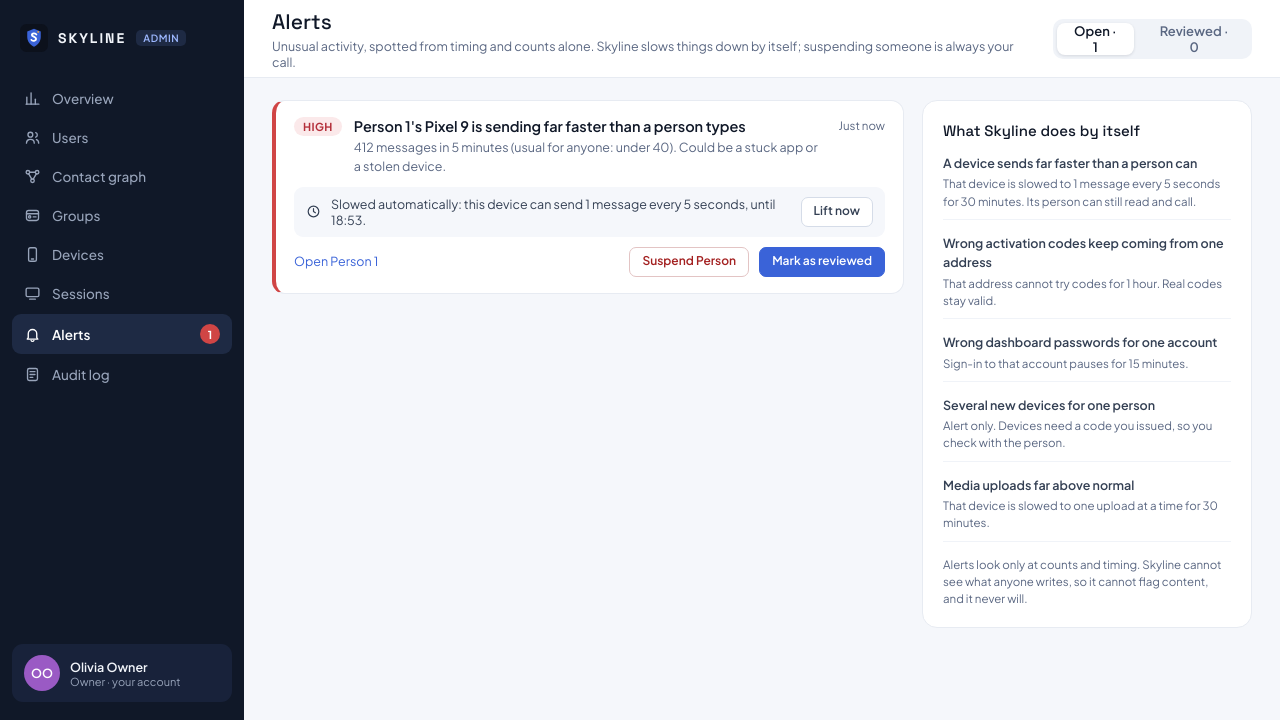
Test: alerts (board 37) › lifts a limit, and suspends only after asking
The image size is (1280, 720).
Expected: the text "Person 1's Pixel 9 is sending far faster than a person types" is shown, x1=354 y1=117 x2=746 y2=135
Expected: the text "412 messages in 5 minutes" is shown, x1=354 y1=139 x2=818 y2=174
Click the button "Lift now" at point(837, 212), box x1=800 y1=197 x2=873 y2=227
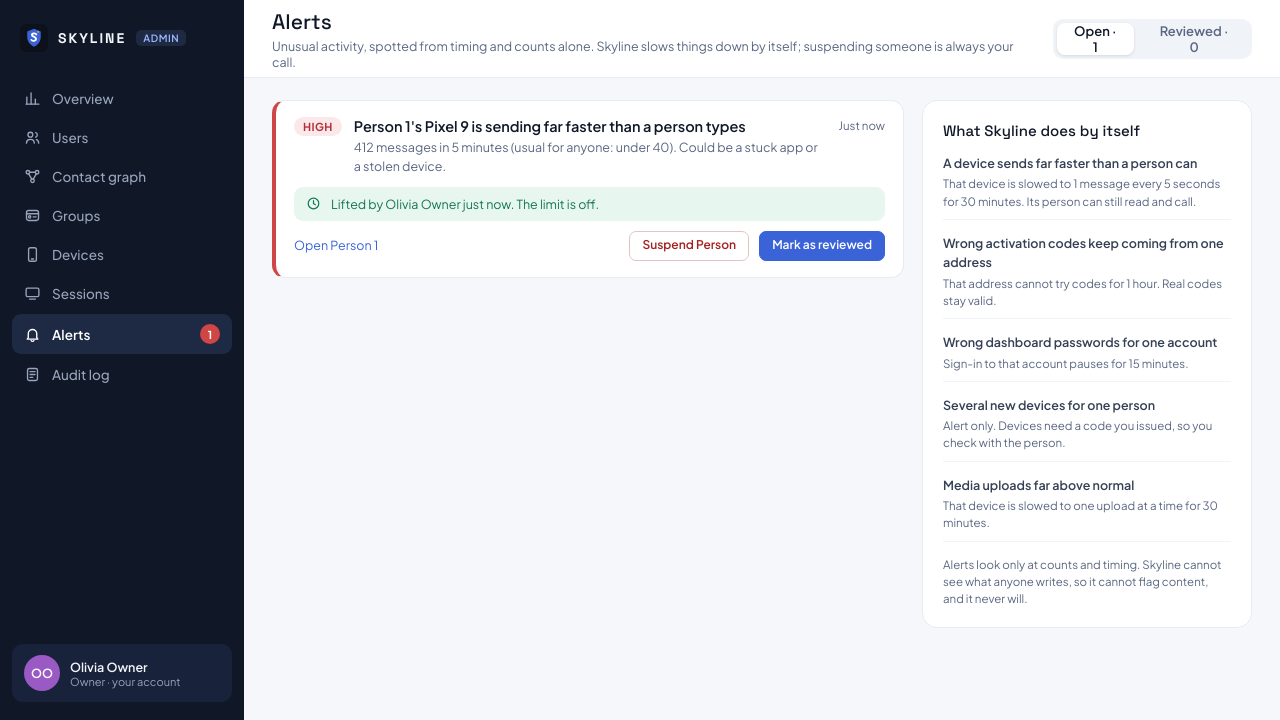
Now the text "Lifted by Olivia Owner just now. The limit is off." is shown, box x1=331 y1=196 x2=599 y2=212
Click the button "Suspend Person" at point(689, 246), box x1=629 y1=231 x2=749 y2=261
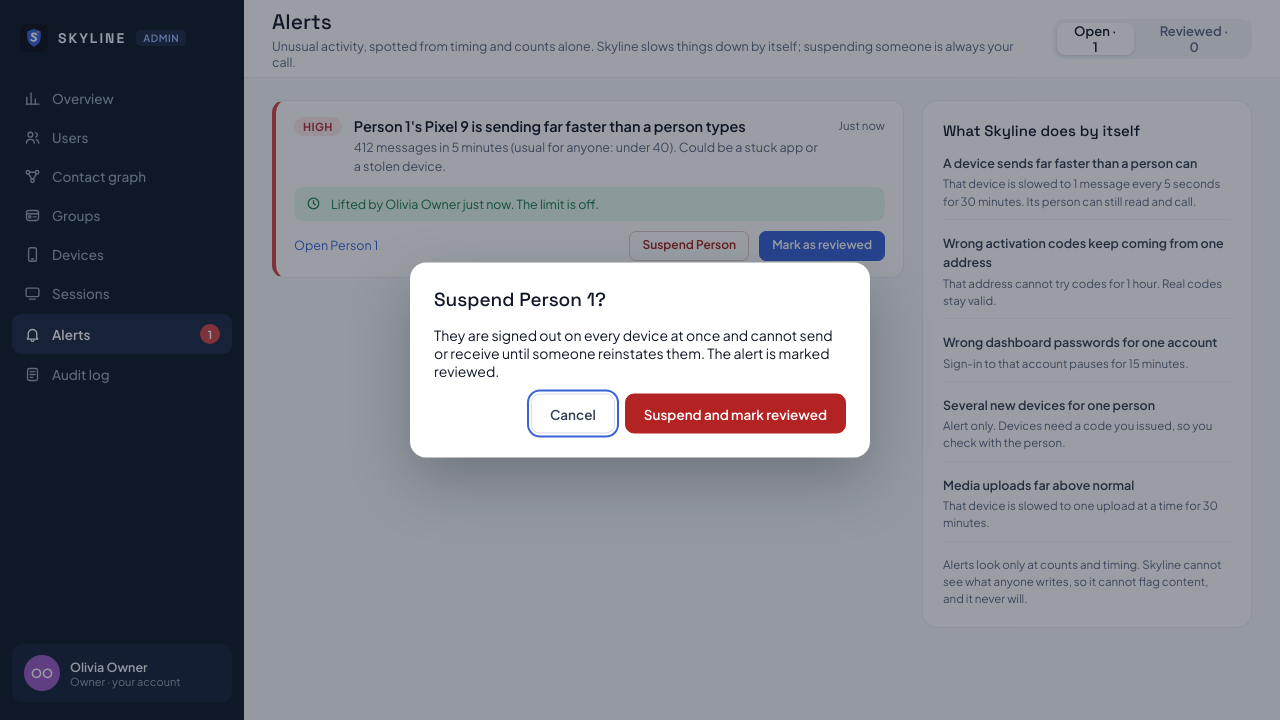
Now the dialog is shown, box x1=410 y1=262 x2=870 y2=458
Click the button "Suspend and mark reviewed" at point(735, 414), box x1=625 y1=394 x2=846 y2=434
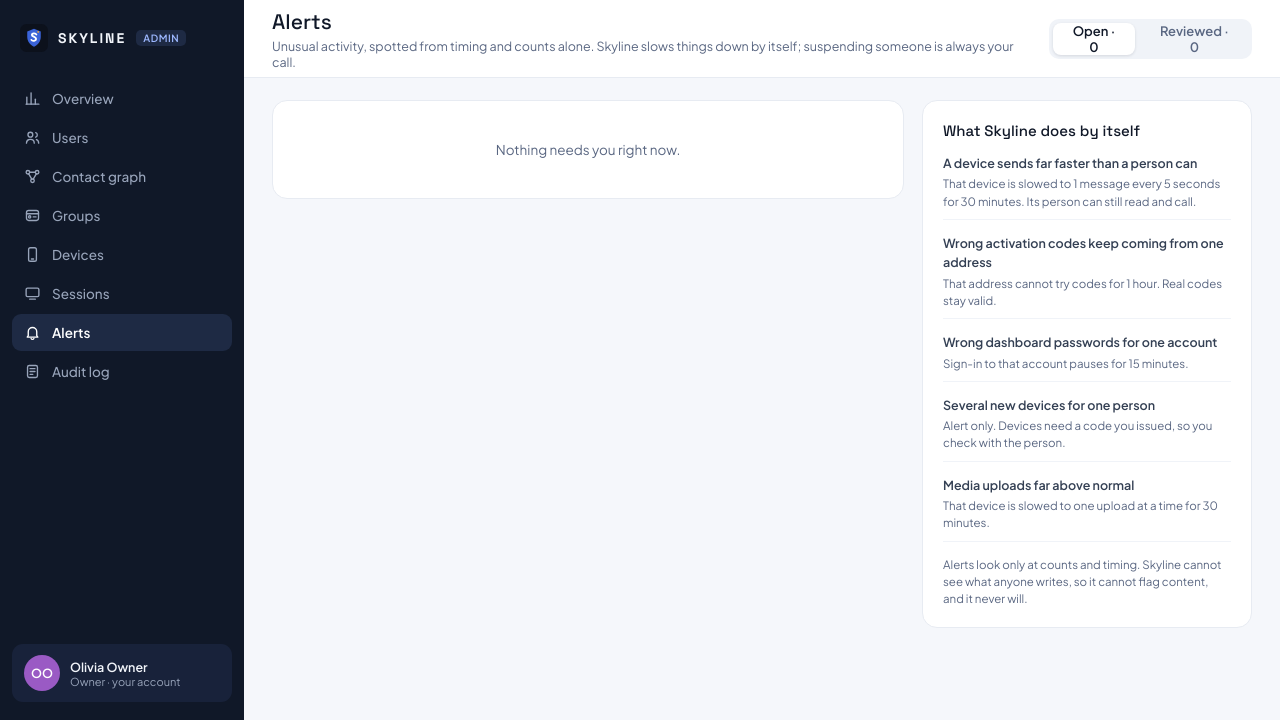
Now the text "Nothing needs you right now." is shown, box x1=272 y1=100 x2=904 y2=199
